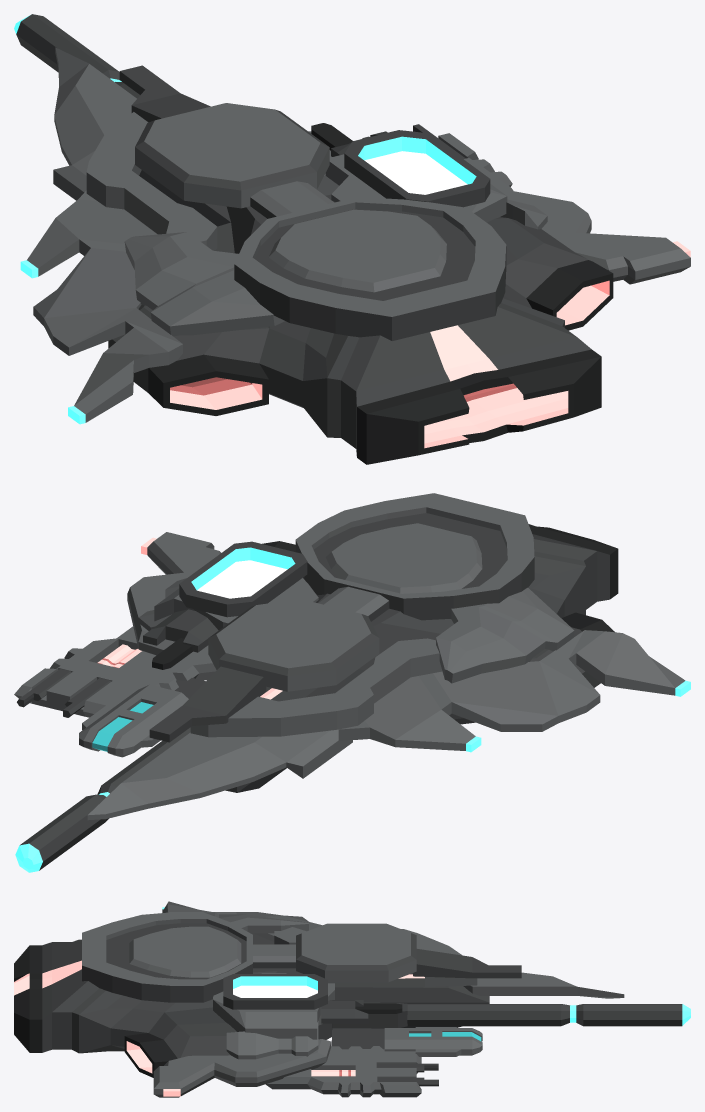
Rendered from Combat_Frigate_Corvette_1_LODGroup.fbx.
3 views of the same model, one above another, from view 1: azimuth 30°, elevation 25°; view 2: azimuth 150°, elevation 25°; view 3: azimuth 270°, elevation 25° (orthographic). The views are drawn at different scales.
Parts seen in each view (by area): view 1: Combat Frigate Corvette 1_LOD0; view 2: Combat Frigate Corvette 1_LOD0; view 3: Combat Frigate Corvette 1_LOD0.
Part boxes in pixels (<box>): Combat Frigate Corvette 1_LOD0: <box>14,14,690,464</box>; Combat Frigate Corvette 1_LOD0: <box>14,493,690,872</box>; Combat Frigate Corvette 1_LOD0: <box>14,901,690,1097</box>.
Size of what is drawn, in the model's own units: 88.78 by 18.09 by 131.
